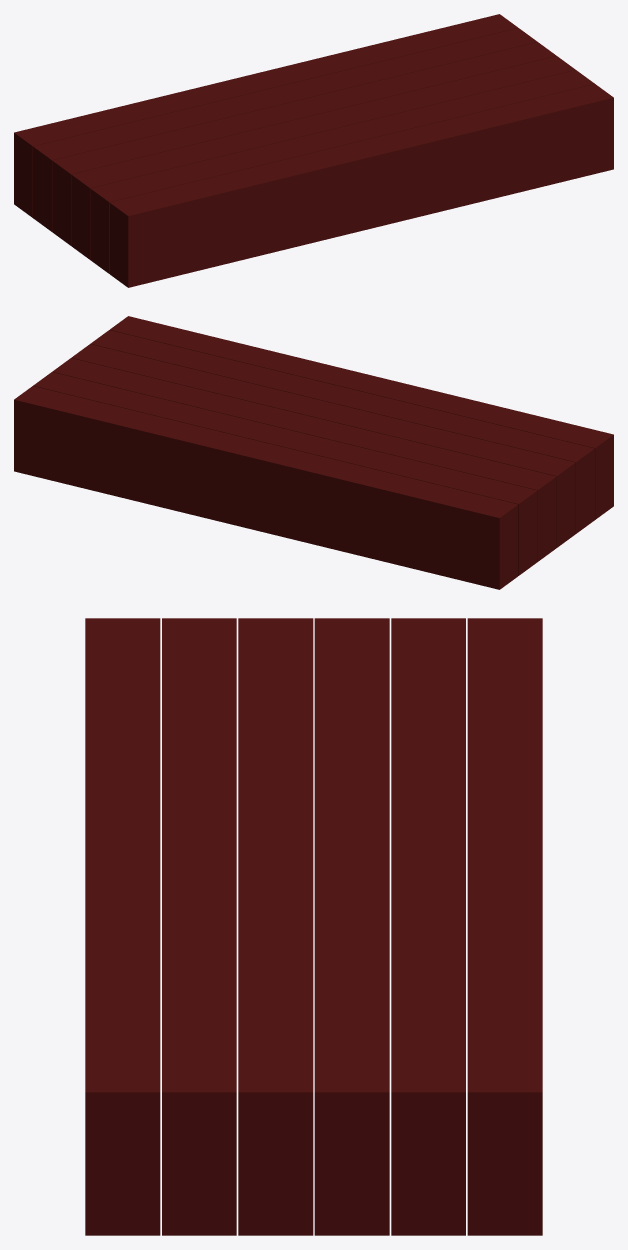
The model's file is container_block.dae.
3 views of the same model, one above another, from view 1: azimuth 30°, elevation 25°; view 2: azimuth 150°, elevation 25°; view 3: azimuth 270°, elevation 25° (orthographic). The views are drawn at different scales.
Parts seen in each view (by area): view 1: container_block_3x6x2; view 2: container_block_3x6x2; view 3: container_block_3x6x2.
Boxes of the visible parts, left/top/right/bottom form: container_block_3x6x2: left=14, top=14, right=613, bottom=287; container_block_3x6x2: left=14, top=316, right=613, bottom=589; container_block_3x6x2: left=85, top=618, right=542, bottom=1235.
Size of the model in its own units: 36.69 by 14.95 by 5.18.
